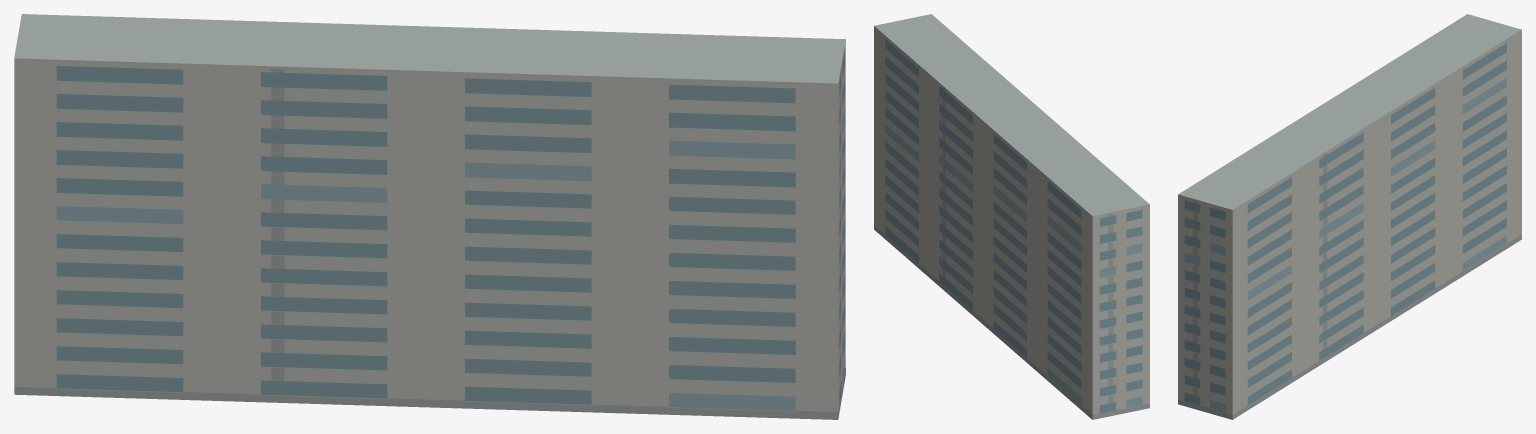
Rendered from residential-1e140899-e768-424c-b7d1-c213a6b02b19.glb.
The picture shows the model from 3 angles, left to right: view 1: azimuth 30°, elevation 25°; view 2: azimuth 150°, elevation 25°; view 3: azimuth 270°, elevation 25°; orthographic projection. The views are drawn at different scales.
Visible parts, largest first — view 1: residential-1e140899-e768-424c-b7d1-c213a6b02b19.tmp; view 2: residential-1e140899-e768-424c-b7d1-c213a6b02b19.tmp; view 3: residential-1e140899-e768-424c-b7d1-c213a6b02b19.tmp.
Boxes of the visible parts, x1,y1,x2,y2 form: residential-1e140899-e768-424c-b7d1-c213a6b02b19.tmp: [14, 14, 845, 419]; residential-1e140899-e768-424c-b7d1-c213a6b02b19.tmp: [874, 14, 1149, 419]; residential-1e140899-e768-424c-b7d1-c213a6b02b19.tmp: [1178, 14, 1521, 419].
Size of the model in its own units: 68.07 by 34 by 50.47.
